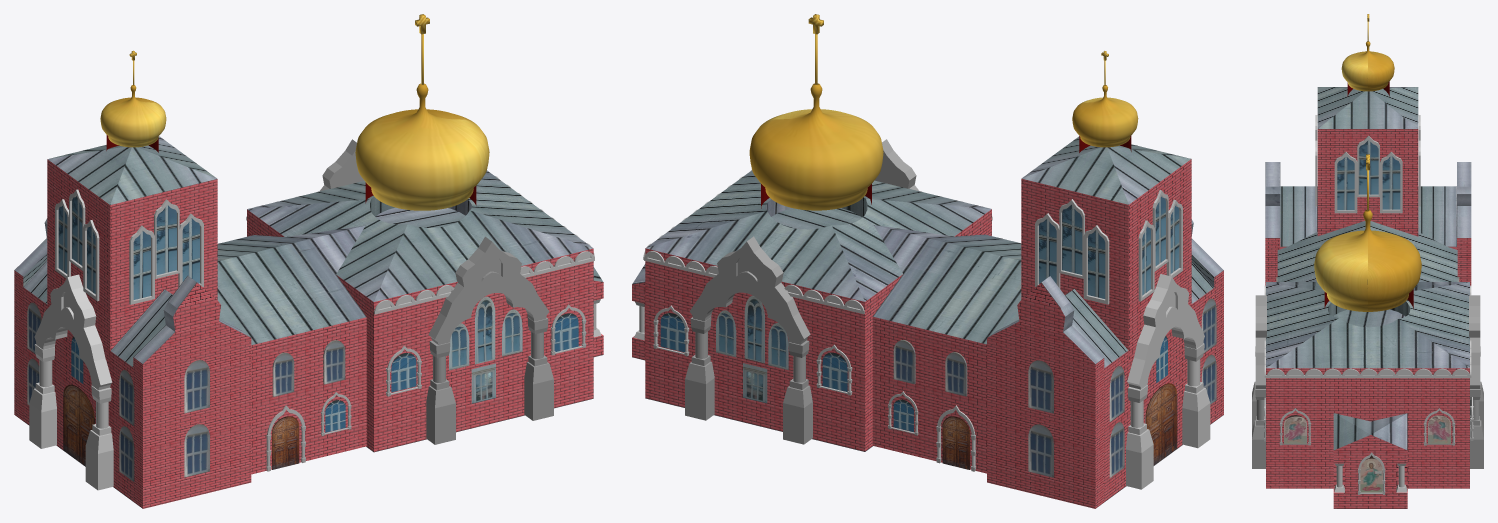
Rendered from prayer.obj.
3 renders of one model, left to right at view 1: azimuth 30°, elevation 25°; view 2: azimuth 150°, elevation 25°; view 3: azimuth 270°, elevation 25°, orthographic. The views are drawn at different scales.
Visible parts, largest first — view 1: Cube, Circle_Circle.001, Plane.001, Plane.002, Circle.039, Circle.036_Circle.022, Circle.035_Circle.037, Circle.069_Circle.072, Circle.065_Circle.068, Circle.083_Circle.041, Circle.078_Circle.081, Circle.056_Circle.058 (+11 smaller); view 2: Cube, Circle_Circle.001, Plane.000, Plane.002, Circle.038, Circle.036_Circle.022, Circle.035_Circle.037, Circle.069_Circle.072, Circle.068_Circle.071, Circle.070_Circle.073, Circle.048_Circle.087, Circle.079_Circle.088 (+12 smaller); view 3: Cube, Circle_Circle.001, Circle.037_Circle.023, Plane.001, Plane.000, Circle.035_Circle.037, Cube.003_Cube.006, Circle.046_Circle.048, Circle.042_Circle.044, Circle.043_Circle.045, Circle.024_Circle.026, Circle.023_Circle.025 (+2 smaller).
Part boxes in pixels (<box>): Cube: <box>14,136,603,508</box>; Circle_Circle.001: <box>355,83,489,210</box>; Plane.001: <box>426,236,553,444</box>; Plane.002: <box>29,274,113,490</box>; Circle.039: <box>129,199,203,304</box>; Circle.036_Circle.022: <box>55,189,99,301</box>; Circle.035_Circle.037: <box>100,85,166,147</box>; Circle.069_Circle.072: <box>63,384,94,466</box>; Circle.065_Circle.068: <box>272,416,299,469</box>; Circle.083_Circle.041: <box>475,296,495,364</box>; Circle.078_Circle.081: <box>184,424,209,477</box>; Circle.056_Circle.058: <box>184,360,209,413</box>; Cube: <box>632,136,1223,508</box>; Circle_Circle.001: <box>749,83,883,210</box>; Plane.000: <box>685,236,812,444</box>; Plane.002: <box>1126,274,1210,489</box>; Circle.038: <box>1035,199,1109,304</box>; Circle.036_Circle.022: <box>1138,190,1182,301</box>; Circle.035_Circle.037: <box>1072,85,1138,147</box>; Circle.069_Circle.072: <box>1145,383,1177,465</box>; Circle.068_Circle.071: <box>942,416,969,469</box>; Circle.070_Circle.073: <box>744,295,764,363</box>; Circle.048_Circle.087: <box>1028,360,1053,413</box>; Circle.079_Circle.088: <box>1028,424,1053,477</box>; Cube: <box>1265,87,1471,508</box>; Circle_Circle.001: <box>1314,210,1421,311</box>; Circle.037_Circle.023: <box>1334,135,1402,213</box>; Plane.001: <box>1252,295,1266,468</box>; Plane.000: <box>1469,295,1483,468</box>; Circle.035_Circle.037: <box>1341,41,1394,91</box>; Cube.003_Cube.006: <box>1266,375,1470,378</box>; Circle.046_Circle.048: <box>1360,455,1382,492</box>; Circle.042_Circle.044: <box>1428,415,1450,443</box>; Circle.043_Circle.045: <box>1284,415,1306,443</box>; Circle.024_Circle.026: <box>1358,452,1385,494</box>; Circle.023_Circle.025: <box>1423,408,1455,445</box>.
Bounding box in the file's own units: 11.76 × 8.57 × 5.65.
